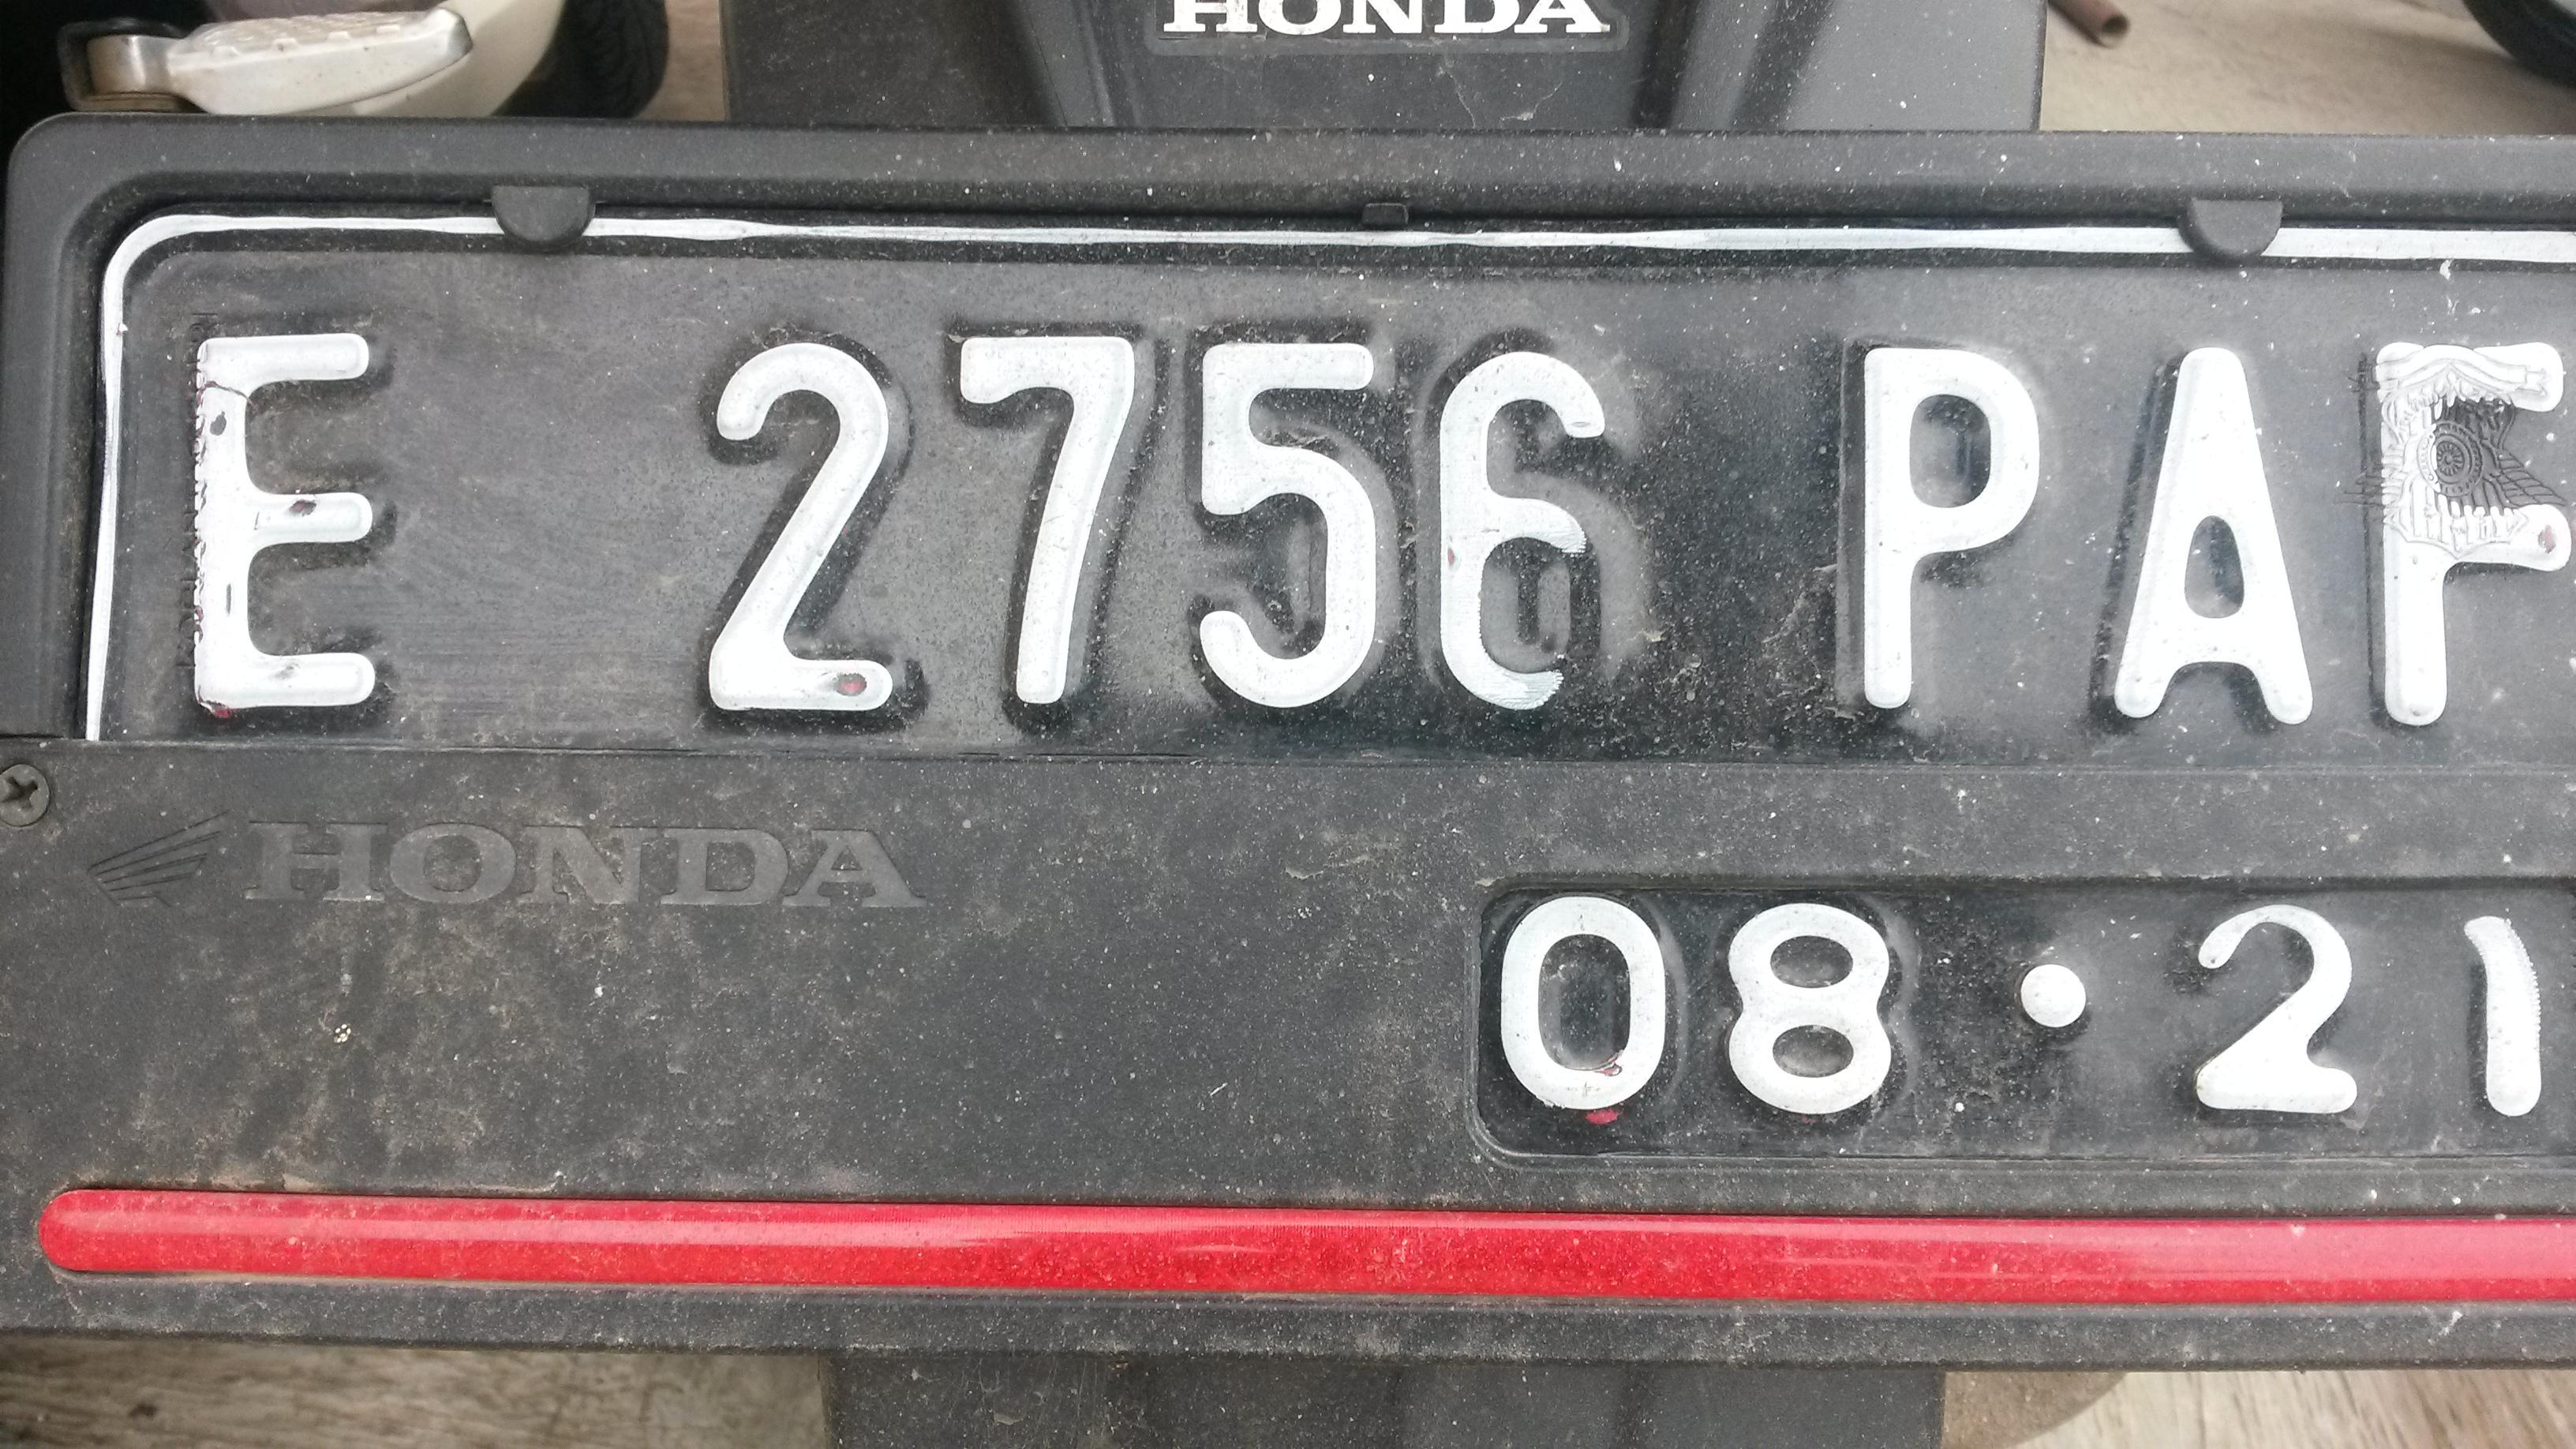clone-license-plate: (95, 200, 2575, 1183)
